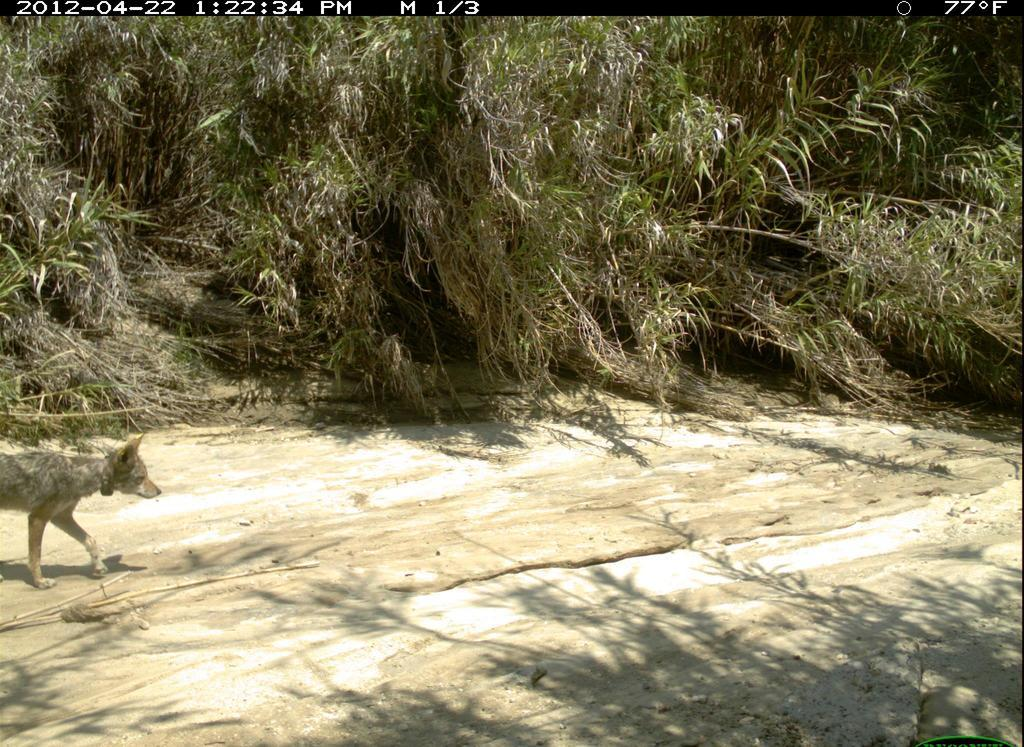coyote: (1, 431, 168, 599)
